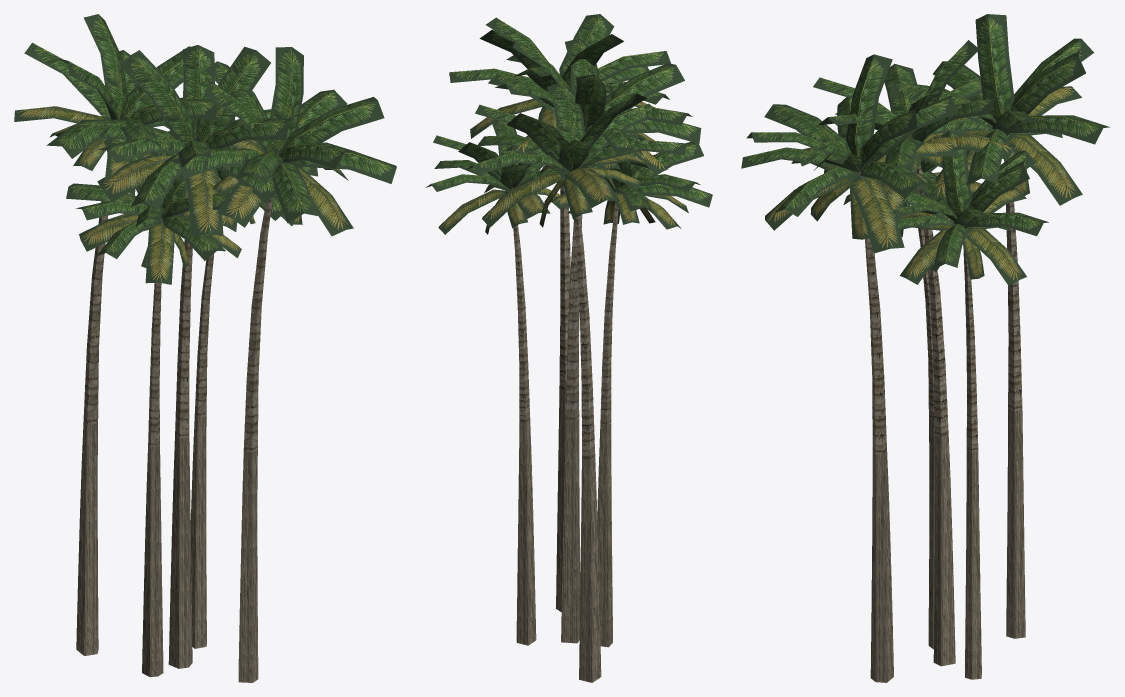
The model's file is medina_cityscape_palms_group.gltf.
3 views of the same model, side by side, from view 1: azimuth 30°, elevation 25°; view 2: azimuth 150°, elevation 25°; view 3: azimuth 270°, elevation 25° (orthographic). The views are drawn at different scales.
Visible parts, largest first — view 1: medina_cityscape_palms_group; view 2: medina_cityscape_palms_group; view 3: medina_cityscape_palms_group.
Part boxes in pixels (bbox=[...]): medina_cityscape_palms_group: bbox=[14, 14, 396, 682]; medina_cityscape_palms_group: bbox=[426, 14, 712, 682]; medina_cityscape_palms_group: bbox=[741, 14, 1110, 682].
Size of the model in its own units: 2.91 by 6.19 by 3.43.
Materials: 2 (2 with a texture image).
